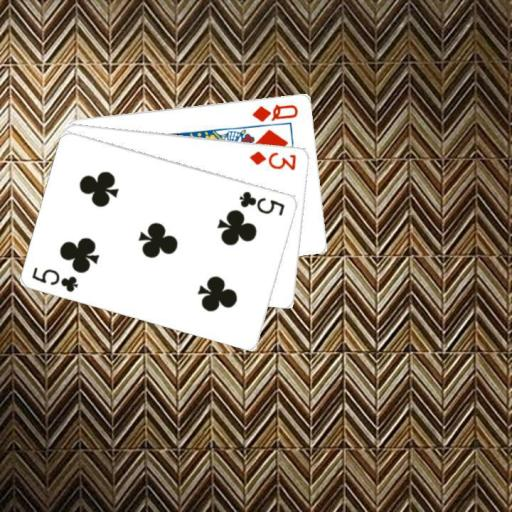3D: (246, 148, 298, 171)
5C: (30, 264, 81, 294), (236, 188, 287, 217)
QD: (249, 100, 300, 123)
